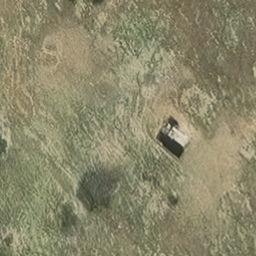manzanas: (154, 119, 194, 158)
